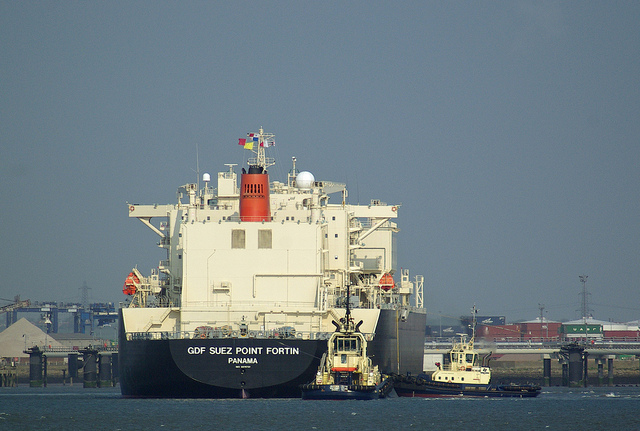LNG_ship: (114, 127, 422, 395)
tug_boat: (398, 317, 544, 396), (300, 297, 389, 397)
